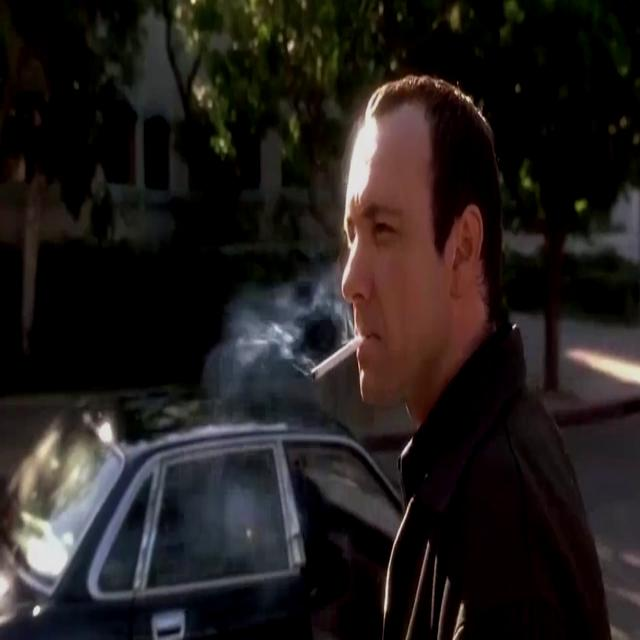Smooking: (300, 326, 364, 391)
